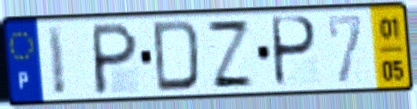7: (325, 13, 365, 87)
D: (151, 18, 203, 94)
I: (44, 22, 69, 99)
P: (91, 20, 141, 97), (271, 14, 320, 90)
Z: (204, 19, 257, 90)
